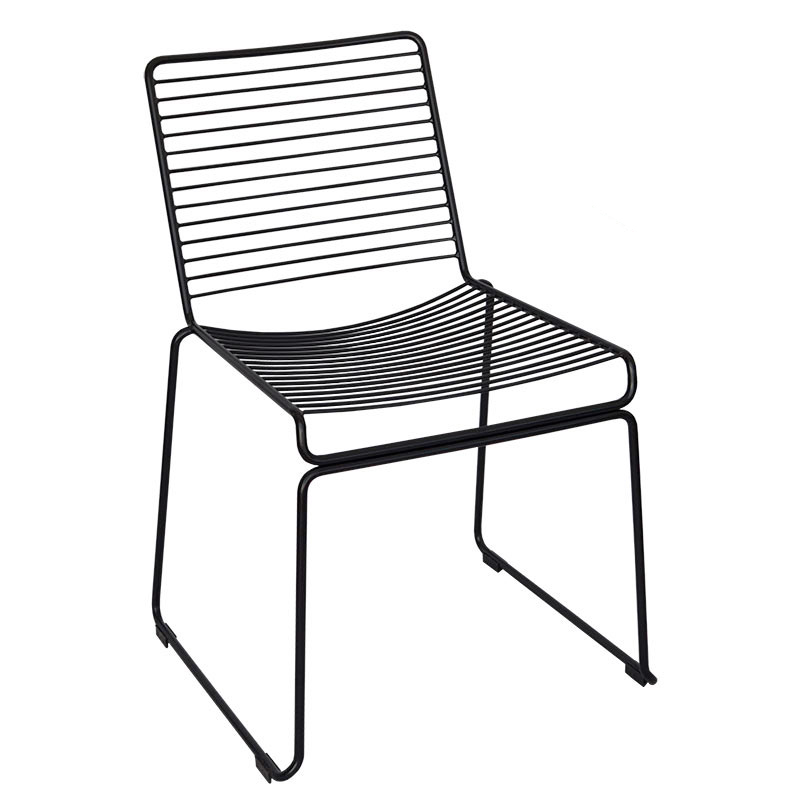chair: (89, 16, 705, 788)
